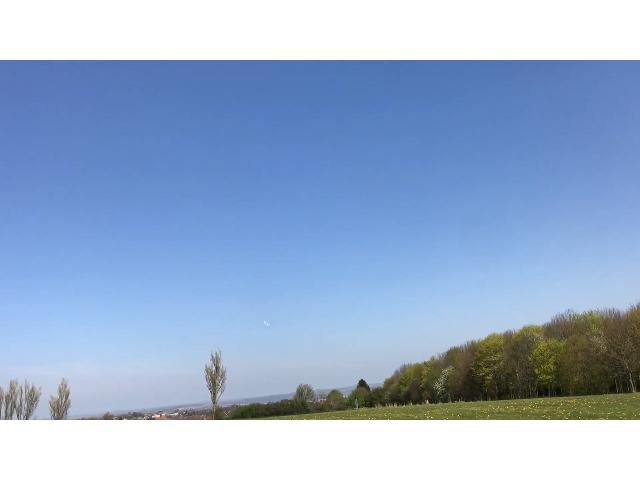Anti-Drone: (259, 313, 281, 331)
